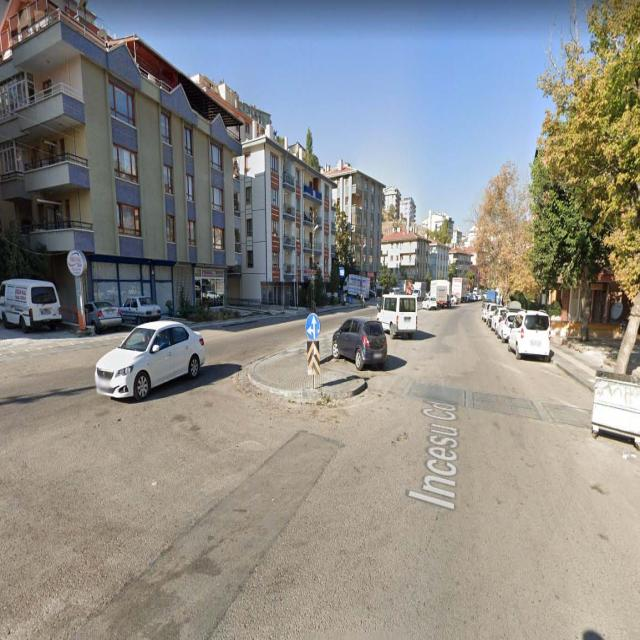ilerisol: (305, 314, 321, 341)
